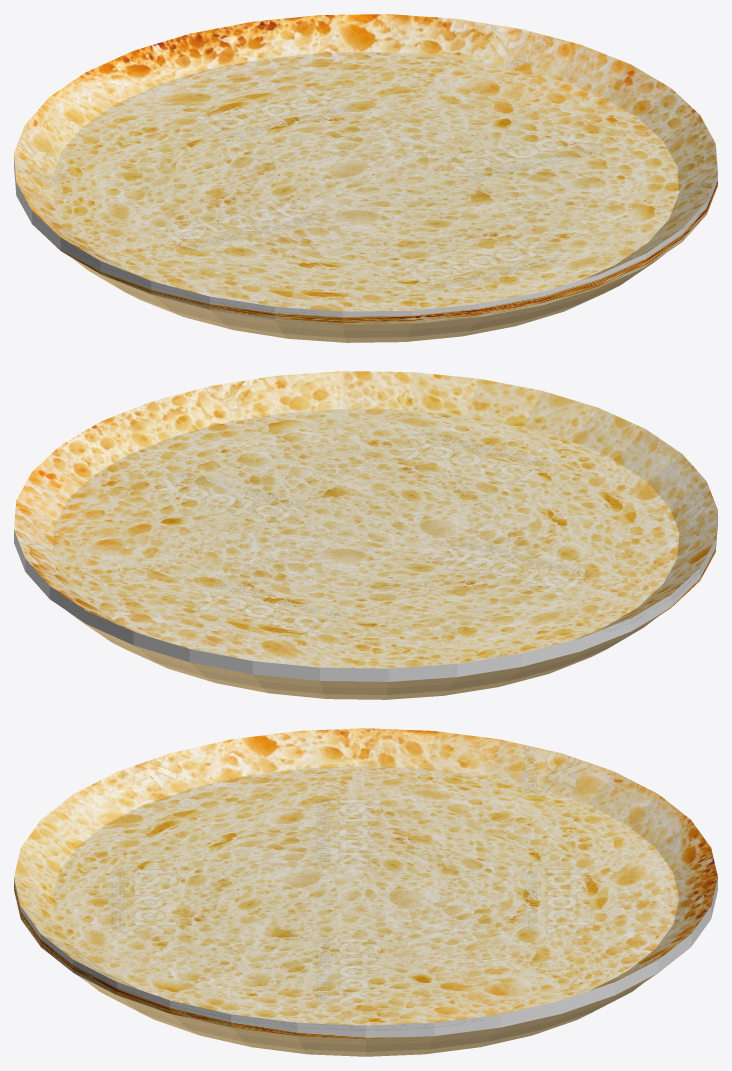
The model's file is pan_2.obj.
The picture shows the model from 3 angles, top to bottom: view 1: azimuth 30°, elevation 25°; view 2: azimuth 150°, elevation 25°; view 3: azimuth 270°, elevation 25°; orthographic projection.
Parts seen in each view (by area): view 1: Cilindro.011_Cilindro.017; view 2: Cilindro.011_Cilindro.017; view 3: Cilindro.011_Cilindro.017.
Part boxes in pixels (<box>): Cilindro.011_Cilindro.017: <box>14,14,717,342</box>; Cilindro.011_Cilindro.017: <box>14,371,717,699</box>; Cilindro.011_Cilindro.017: <box>14,728,717,1056</box>.
Bounding box in the file's own units: 0.18 × 0.015 × 0.18.
